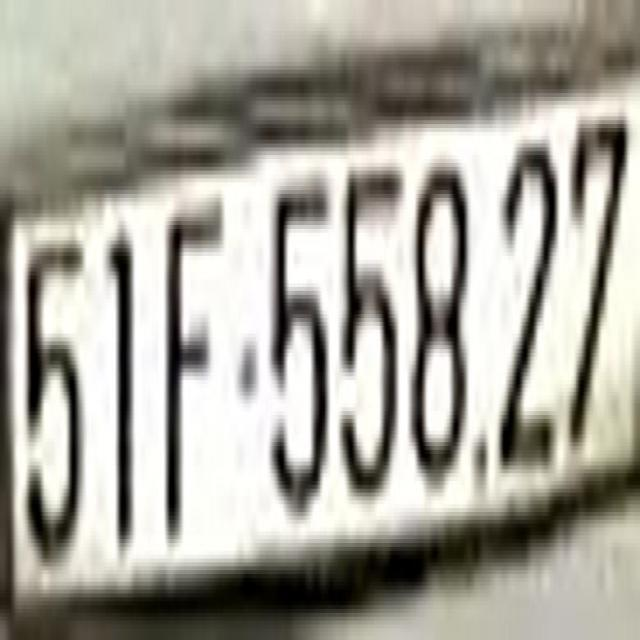1: (105, 225, 143, 551)
2: (494, 140, 556, 473)
5: (272, 178, 332, 536), (24, 229, 84, 586), (340, 155, 400, 493)
7: (567, 108, 630, 466)
8: (410, 147, 468, 489)
F: (160, 186, 224, 551)
